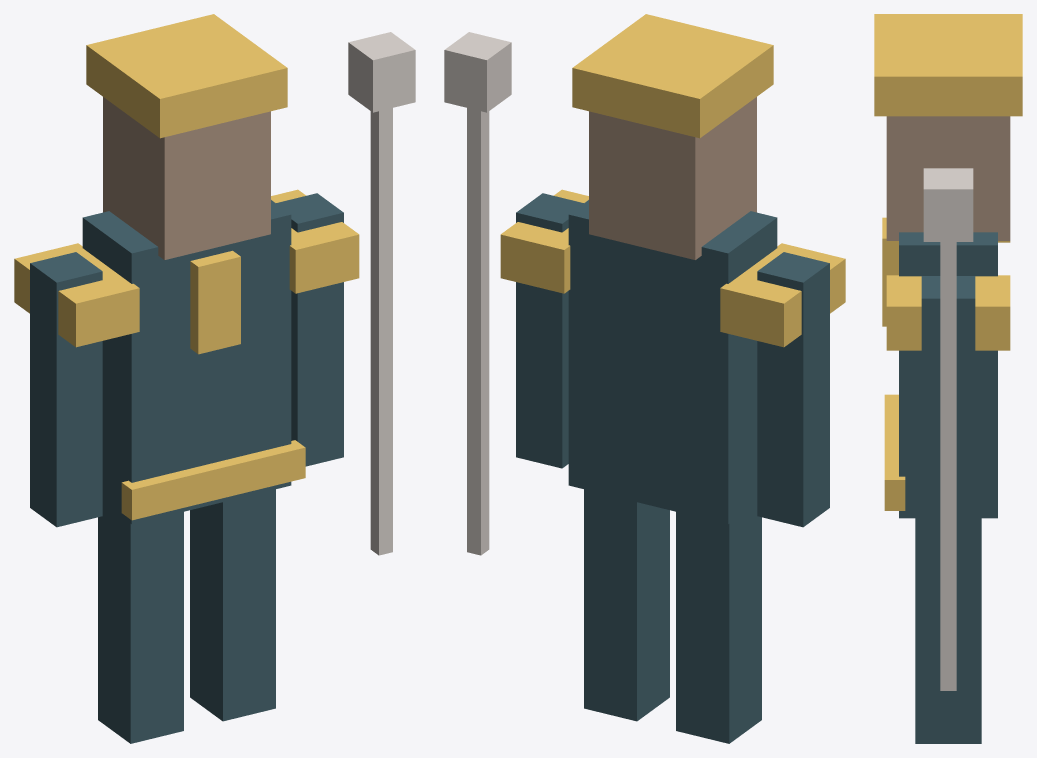
File: 06_tovin_nullborne_ranger_from_transformation.glb
3 renders of one model, left to right at view 1: azimuth 30°, elevation 25°; view 2: azimuth 150°, elevation 25°; view 3: azimuth 270°, elevation 25°, orthographic.
Visible parts, largest first — view 1: Tovin Nullborne, Ranger from Transformation; view 2: Tovin Nullborne, Ranger from Transformation; view 3: Tovin Nullborne, Ranger from Transformation.
Boxes of the visible parts, box(x1,y1,x2,y2) form: Tovin Nullborne, Ranger from Transformation: box(14, 14, 415, 743); Tovin Nullborne, Ranger from Transformation: box(444, 14, 845, 743); Tovin Nullborne, Ranger from Transformation: box(874, 14, 1022, 743).
Size of the model in its own units: 0.9784 by 1.71 by 0.347.
